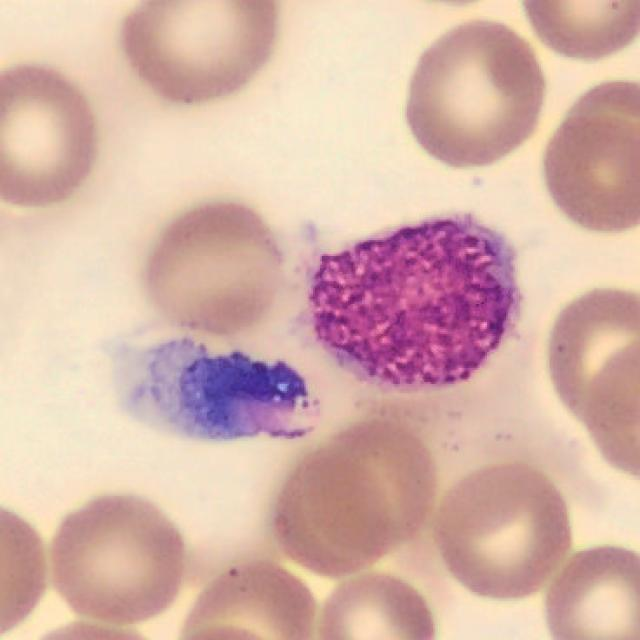Monocito: (310, 219, 513, 384)
